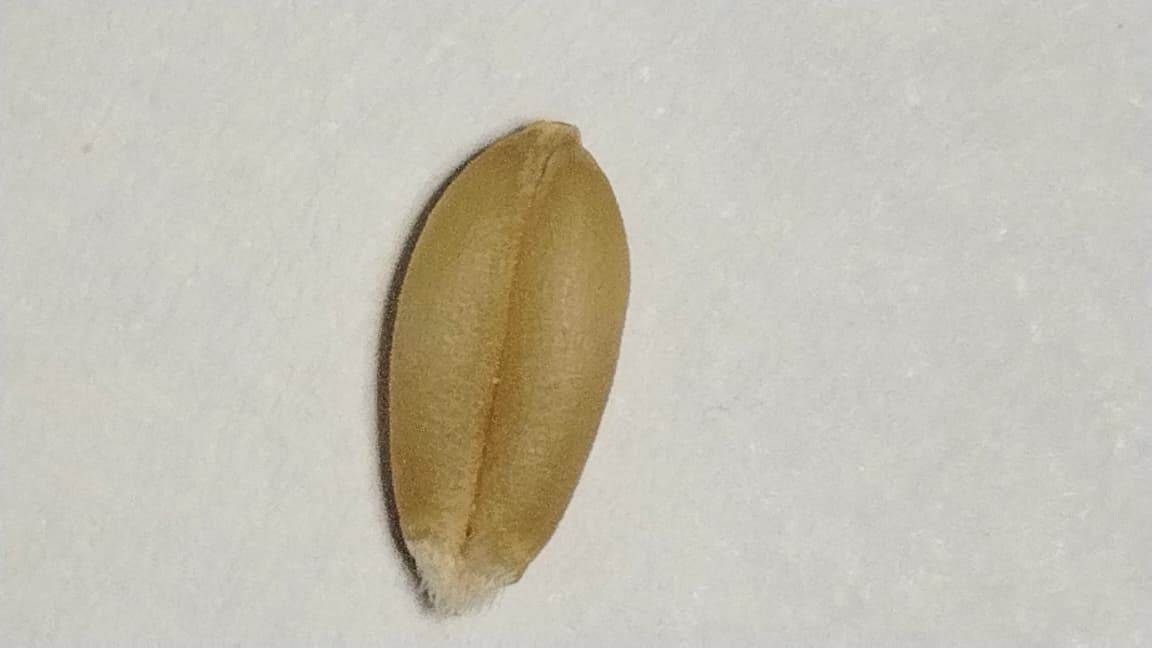healthy: (380, 122, 629, 609)
